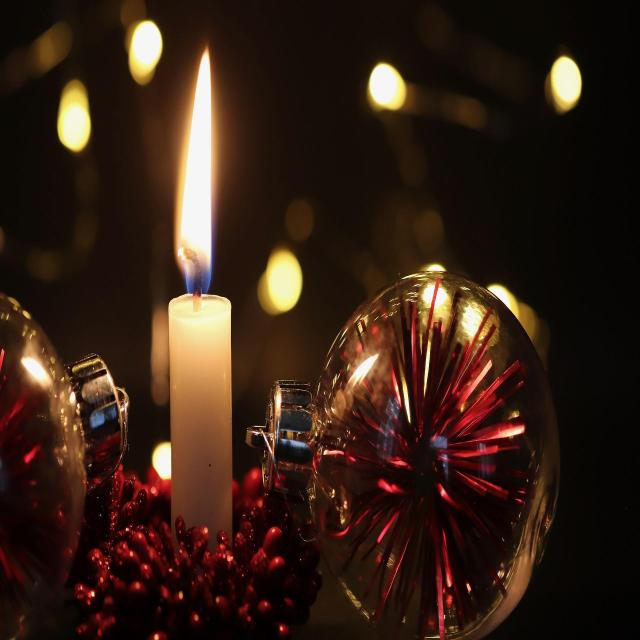Fire_Save: (167, 42, 233, 554)
